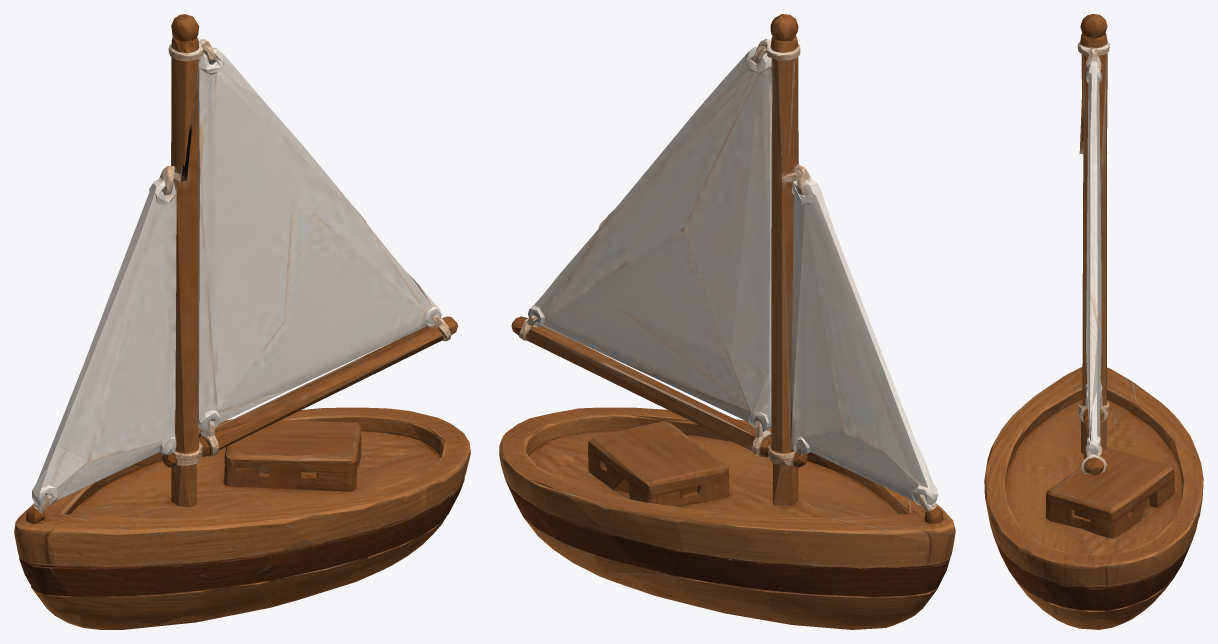
The model's file is sail.glb.
3 views of the same model, side by side, from view 1: azimuth 30°, elevation 25°; view 2: azimuth 150°, elevation 25°; view 3: azimuth 270°, elevation 25° (orthographic). The views are drawn at different scales.
Parts seen in each view (by area): view 1: output_unwrapped; view 2: output_unwrapped; view 3: output_unwrapped.
Part boxes in pixels (x1,y1,x2,y2): output_unwrapped: (14, 14, 470, 629); output_unwrapped: (499, 14, 955, 629); output_unwrapped: (984, 14, 1203, 629).
Bounding box in the file's own units: 1.51 × 1.9 × 0.7201.
Materials: 1 (1 with a texture image).
